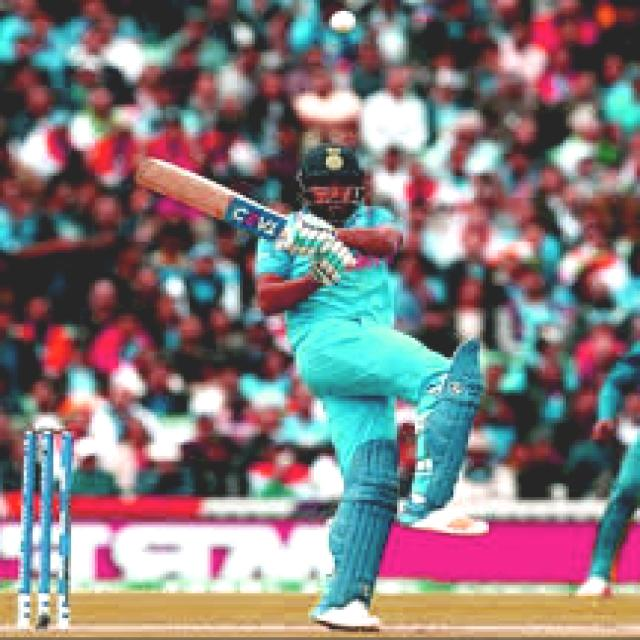toe: (129, 150, 176, 194)
